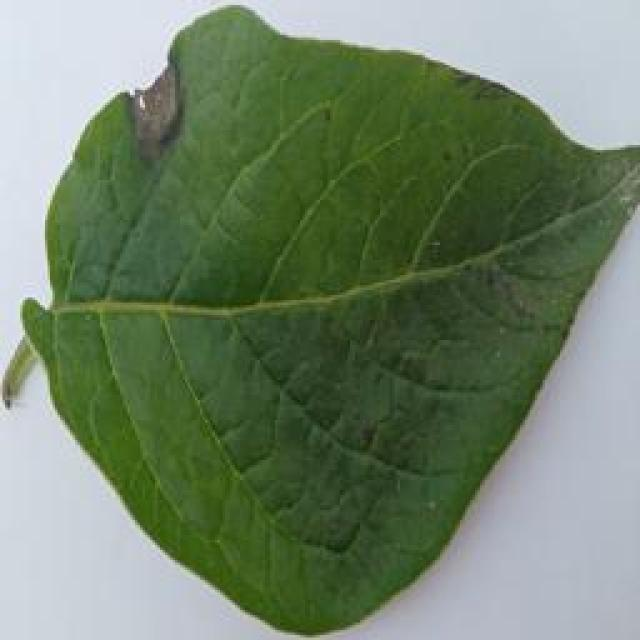Potato_Late_Blight: (10, 13, 626, 631)
